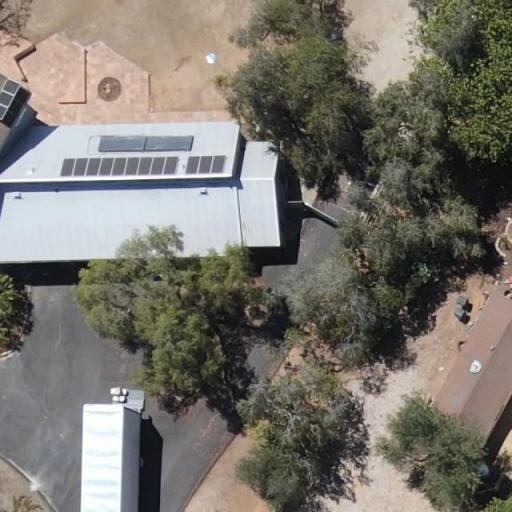solar-panel: (60, 156, 181, 177), (0, 77, 22, 121), (185, 154, 227, 175)
